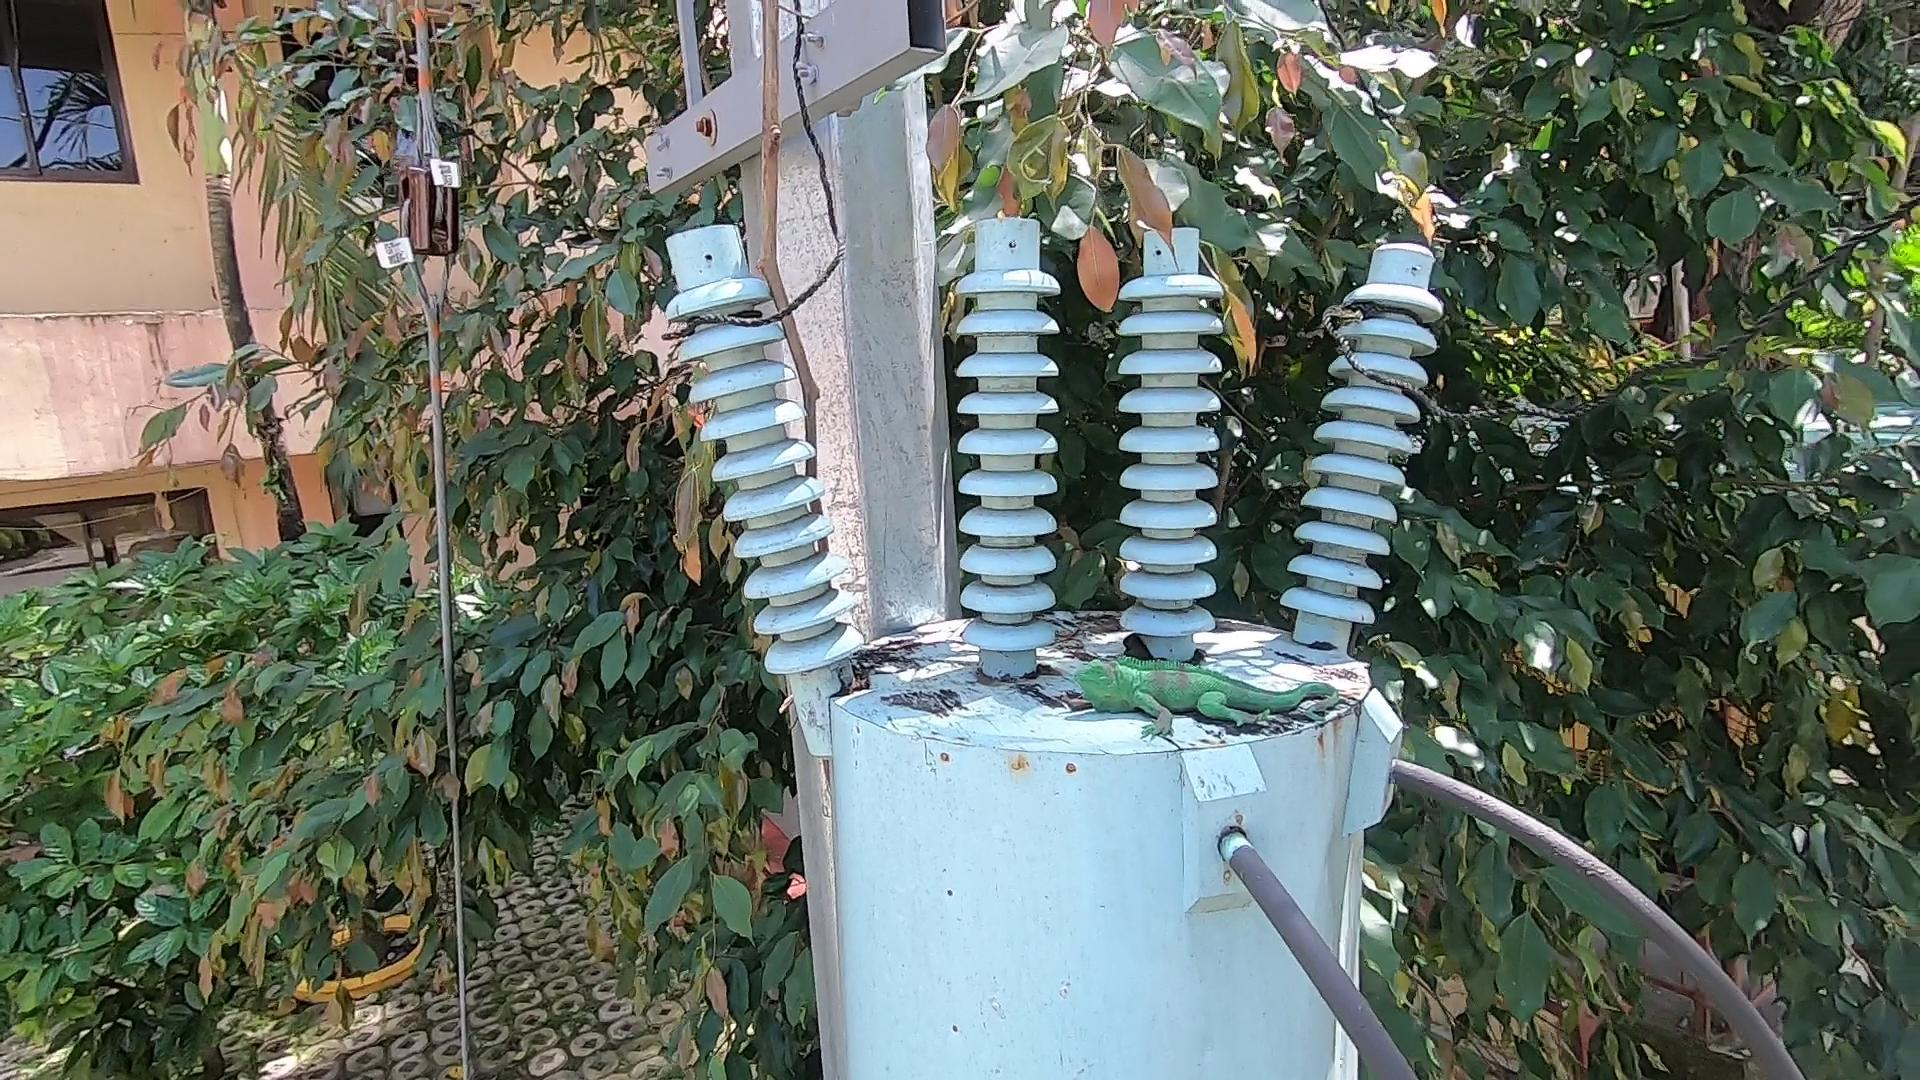branch with leaves: (1033, 132, 1298, 377)
leaf: (1120, 625, 1160, 675), (836, 662, 894, 694)
tree branch: (713, 7, 855, 807)
